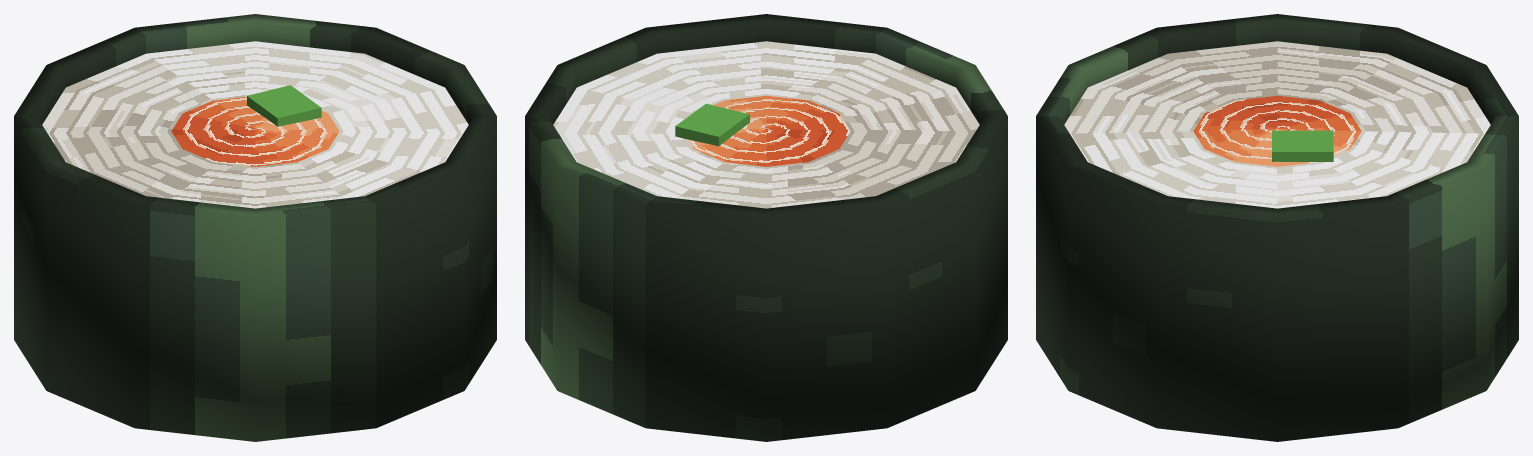
The model's file is meals-maki.glb.
3 views of the same model, side by side, from view 1: azimuth 30°, elevation 25°; view 2: azimuth 150°, elevation 25°; view 3: azimuth 270°, elevation 25° (orthographic).
Visible parts, largest first — view 1: meals.maki; view 2: meals.maki; view 3: meals.maki.
Boxes of the visible parts, x1,y1,x2,y2 form: meals.maki: (14,14,496,441); meals.maki: (525,14,1007,441); meals.maki: (1036,14,1518,441).
Bounding box in the file's own units: 1.78 × 0.911 × 1.78.
Materials: 4 (3 with a texture image).
